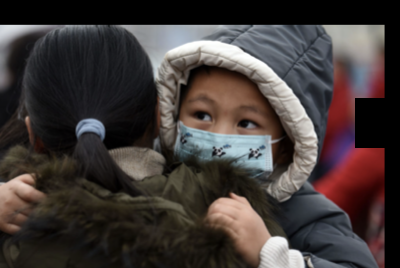with_mask: (171, 89, 275, 185)
